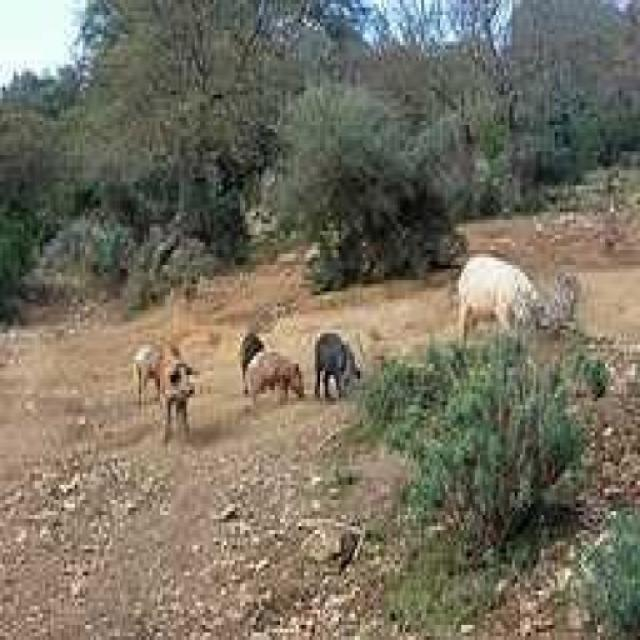pig: (447, 229, 547, 364), (244, 346, 330, 425), (156, 338, 199, 436), (306, 316, 349, 396), (242, 320, 256, 355)
